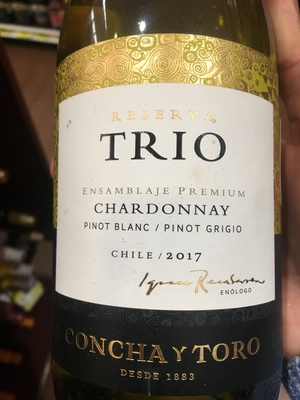trio chardonnay: (51, 18, 282, 400)
